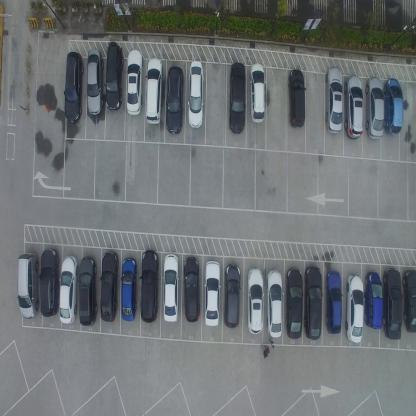car: (38, 247, 61, 317), (16, 252, 39, 320), (138, 248, 159, 322), (382, 266, 402, 341), (64, 50, 84, 124), (104, 40, 125, 110), (304, 264, 323, 341), (100, 248, 120, 321), (58, 253, 78, 324), (164, 65, 184, 135), (78, 255, 98, 325), (228, 60, 246, 135), (144, 58, 164, 125), (324, 66, 343, 136), (344, 74, 364, 140), (284, 268, 302, 340), (162, 252, 180, 323), (365, 75, 384, 142), (345, 273, 363, 343), (86, 48, 104, 117), (266, 268, 283, 340), (286, 68, 306, 128), (384, 78, 404, 138), (187, 59, 204, 129), (126, 49, 144, 115), (120, 255, 138, 320), (183, 256, 200, 324), (324, 270, 342, 334), (223, 263, 240, 330), (247, 268, 264, 334), (204, 260, 220, 328), (365, 270, 383, 330), (249, 62, 266, 124), (402, 269, 416, 334)
